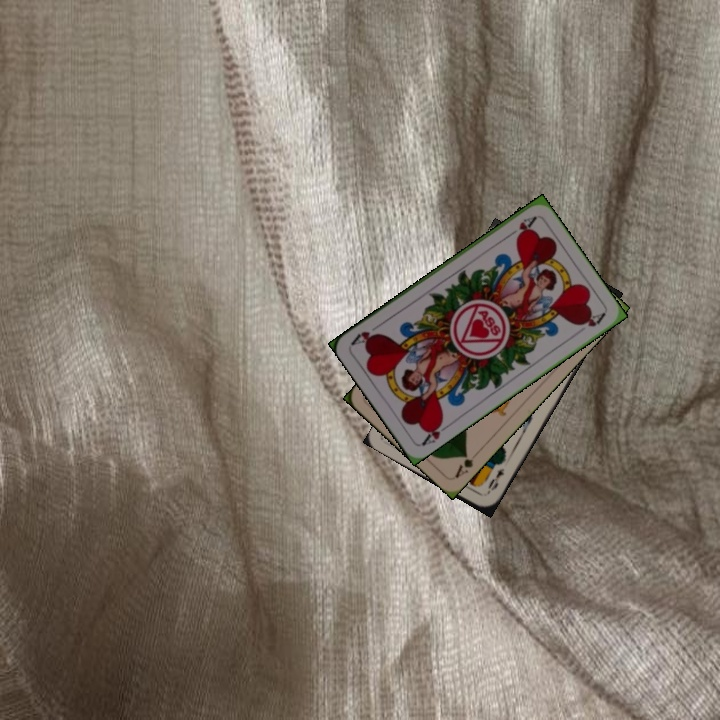EO: (483, 464, 507, 497)
GA: (451, 449, 476, 481)
HA: (417, 416, 453, 448), (503, 213, 539, 240)
